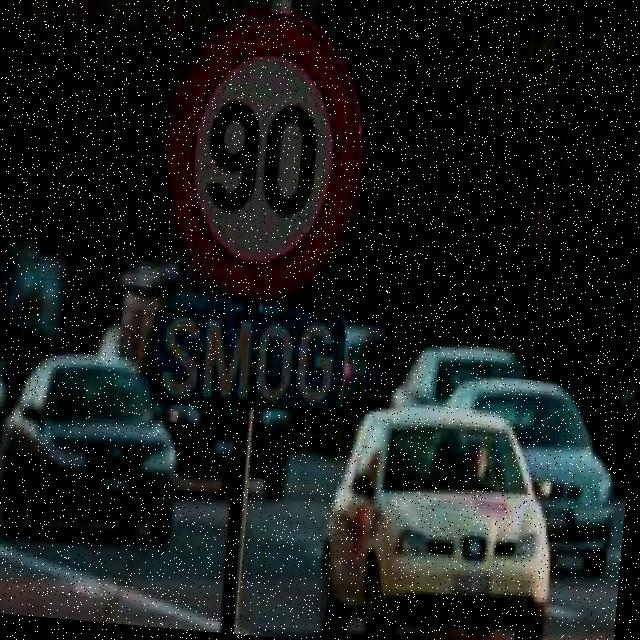Ograniczenie predkosci do 90: (157, 3, 373, 311)
